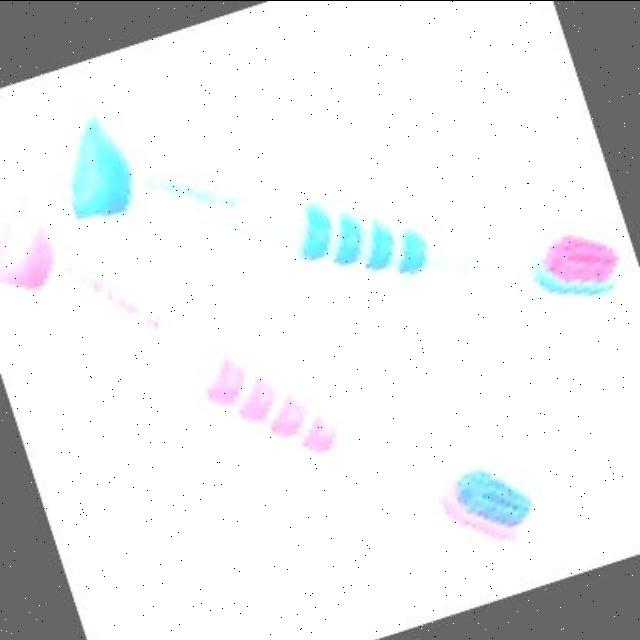toothbrush: (1, 8, 564, 640), (64, 2, 638, 474)
